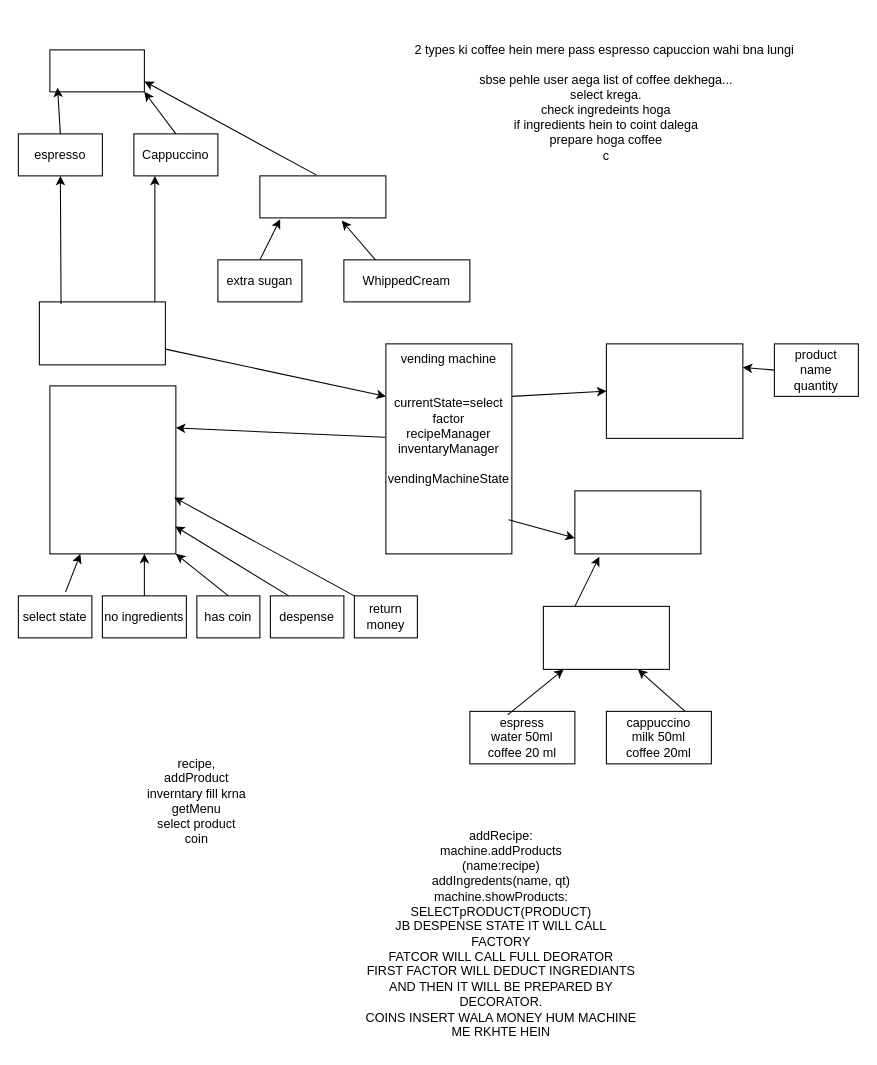
Image size: 877x1065. Some labels were removed from this diagram. The centre of each missing label's shape, as x and y in pixels:
"coffee" goes at (x=96, y=70).
"coffee decorator" goes at (x=322, y=196).
"factory espresso cappucion" goes at (x=101, y=333).
"Inventary: products[] check(products) add(product)" goes at (x=674, y=390).
"recipe addIngredints ingredents[]" goes at (x=605, y=637).
"recipeMnager list of recipes" goes at (x=637, y=522).
"vending state select noIngrediants hascoin despense return money" goes at (x=112, y=469).
